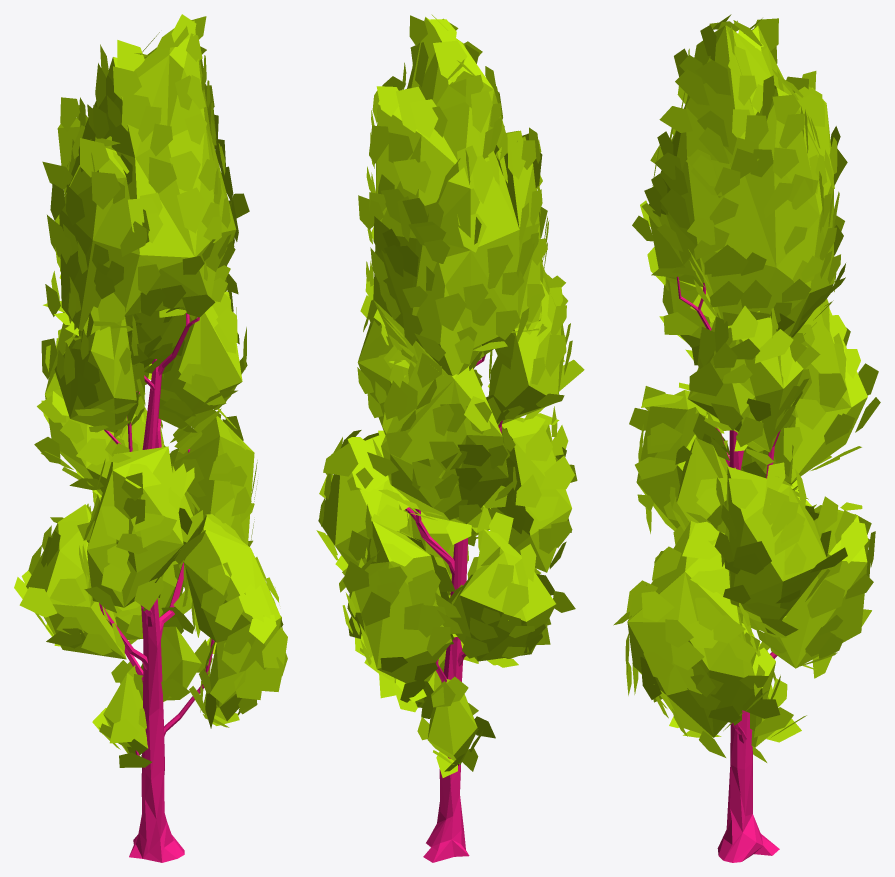
File: SM_Tree_Poplar_Mature_B.fbx
The picture shows the model from 3 angles, left to right: view 1: azimuth 30°, elevation 25°; view 2: azimuth 150°, elevation 25°; view 3: azimuth 270°, elevation 25°; orthographic projection. The views are drawn at different scales.
Parts seen in each view (by area): view 1: SM_Tree_Poplar_Mature_B; view 2: SM_Tree_Poplar_Mature_B; view 3: SM_Tree_Poplar_Mature_B.
Boxes of the visible parts, left/top/right/bottom form: SM_Tree_Poplar_Mature_B: left=14, top=14, right=287, bottom=862; SM_Tree_Poplar_Mature_B: left=316, top=14, right=584, bottom=862; SM_Tree_Poplar_Mature_B: left=613, top=14, right=880, bottom=862.
Size of the model in its own units: 5.6 by 18.03 by 5.16.
